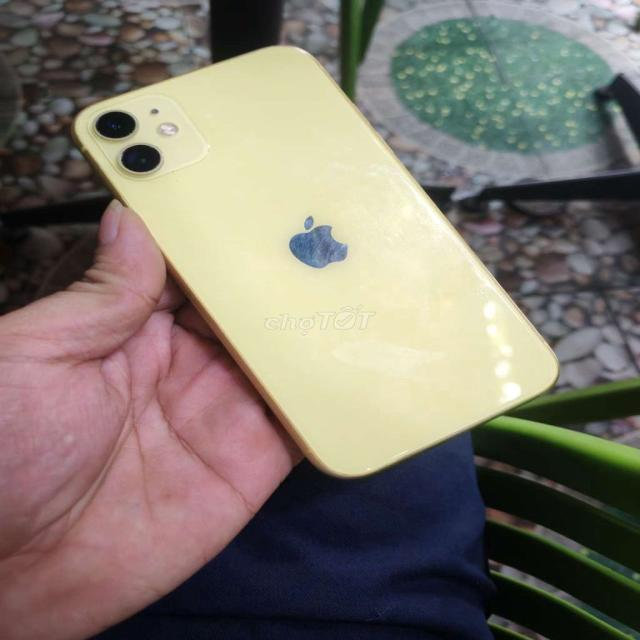gen_11: (75, 36, 569, 483)
scratch: (281, 215, 350, 267), (102, 140, 169, 175)
